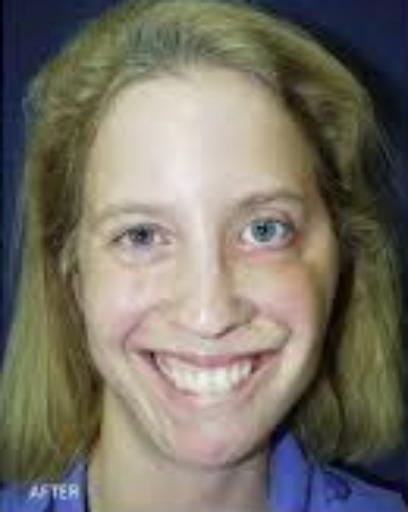left_eye: (238, 219, 298, 253)
left_lip_corner: (263, 339, 291, 365)
right_eye: (106, 227, 174, 261)
right_lip_corner: (128, 341, 155, 366)
